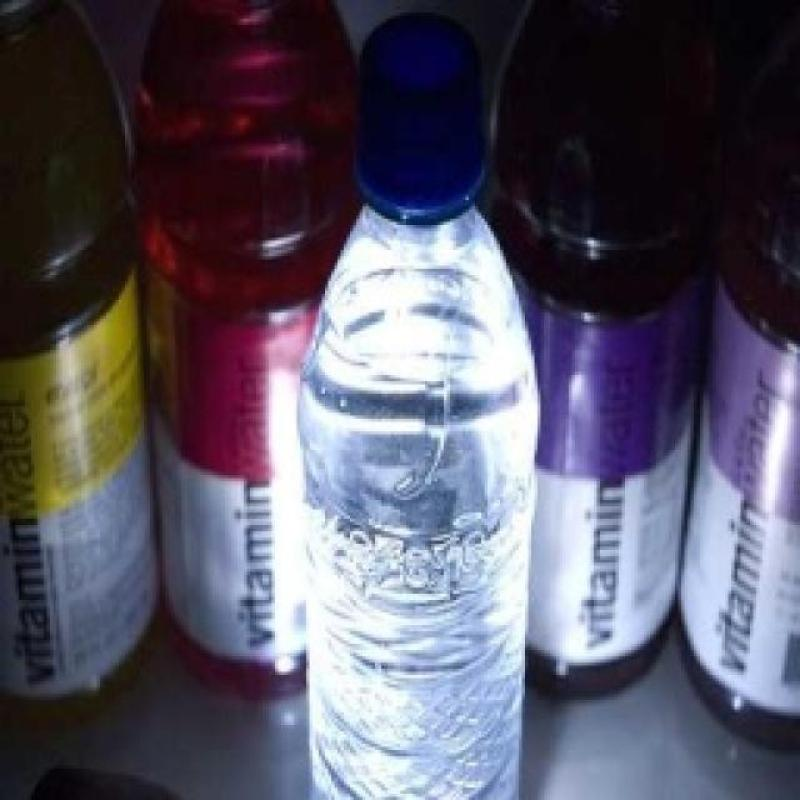botella: (290, 15, 544, 800)
